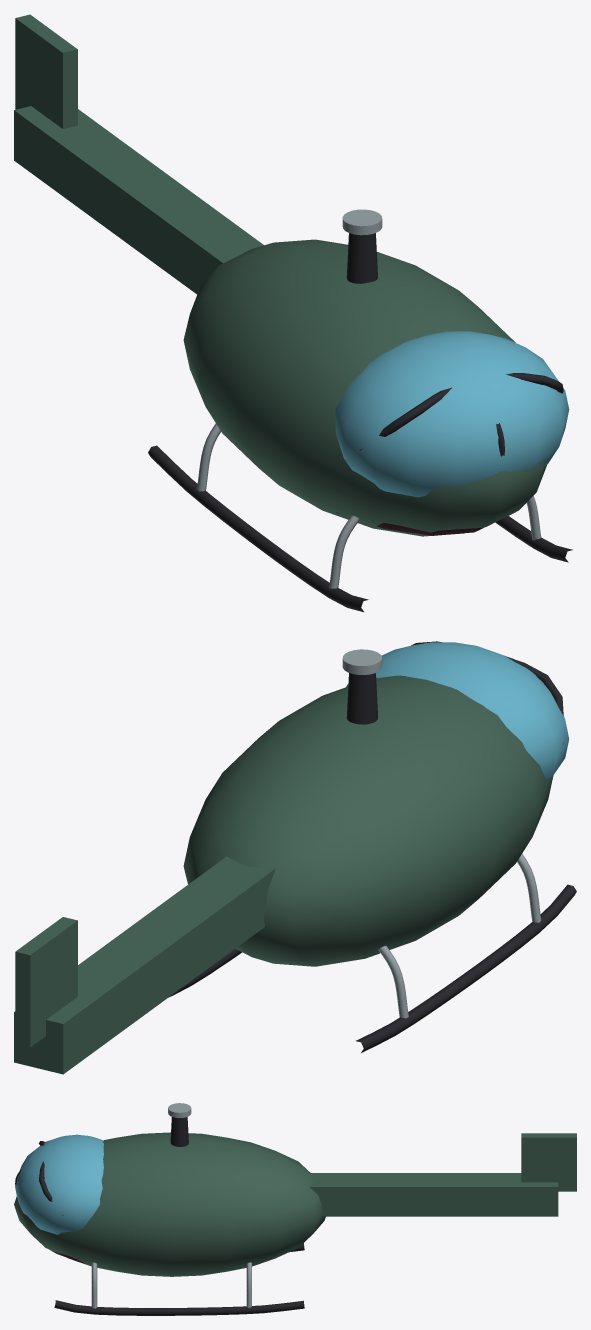
The model's file is mia-heli.glb.
3 views of the same model, one above another, from view 1: azimuth 30°, elevation 25°; view 2: azimuth 150°, elevation 25°; view 3: azimuth 270°, elevation 25° (orthographic). The views are drawn at different scales.
Parts seen in each view (by area): view 1: Body_sage, Body_glass, Body_iron, Body_steel; view 2: Body_sage, Body_glass, Body_iron, Body_steel; view 3: Body_sage, Body_glass, Body_iron, Body_steel.
Part boxes in pixels (x1,y1,x2,y2): Body_sage: (14, 14, 546, 536); Body_glass: (335, 331, 569, 497); Body_iron: (148, 233, 572, 612); Body_steel: (197, 209, 541, 588); Body_sage: (14, 675, 553, 1074); Body_glass: (345, 642, 569, 780); Body_iron: (168, 641, 576, 1052); Body_steel: (342, 649, 541, 1018); Body_sage: (14, 1132, 576, 1276); Body_glass: (15, 1134, 103, 1234); Body_iron: (15, 1117, 304, 1315); Body_steel: (91, 1103, 251, 1308).
Bounding box in the file's own units: 2.22 × 2.54 × 7.27.
